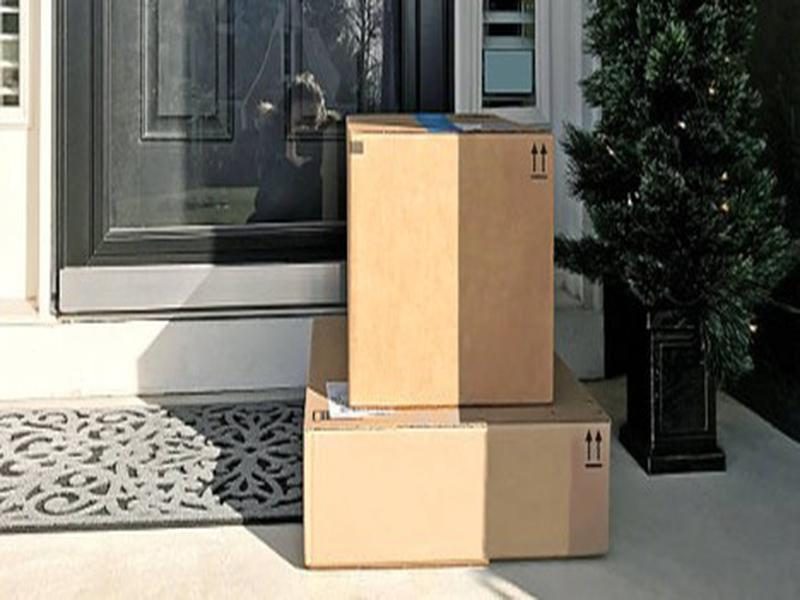package: (294, 310, 622, 577), (329, 99, 572, 417)
